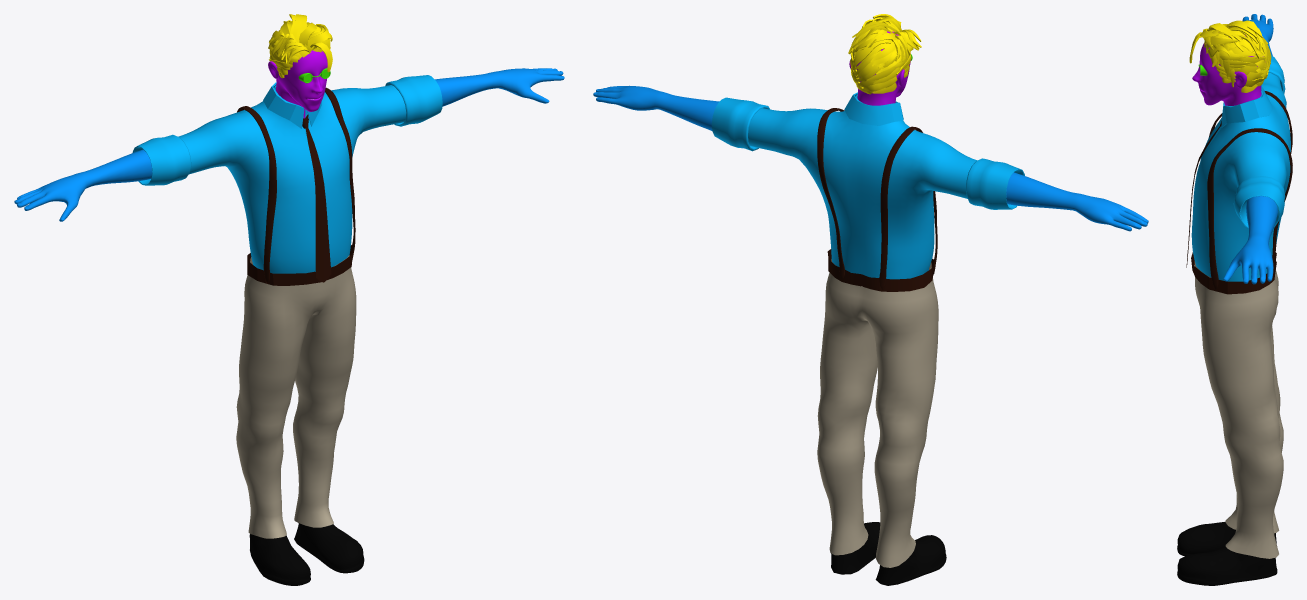
File: nanami_fbx.fbx
3 renders of one model, left to right at view 1: azimuth 30°, elevation 25°; view 2: azimuth 150°, elevation 25°; view 3: azimuth 270°, elevation 25°, orthographic.
Visible parts, largest first — view 1: pants, shirt_base, modified, shoes, collar_r, suspenders, tie, belt, shirt_collar; view 2: pants, shirt_base, modified, collar_r, shoes, suspenders, belt, shirt_collar; view 3: pants, shirt_base, modified, shoes, suspenders, collar_r, shirt_collar, belt, tie, hair_guide9, hair_guide57, hair_guide3.
Boxes of the visible parts, x1,y1,x2,y2 form: pants: (236,255,356,538); shirt_base: (132,85,406,273); modified: (14,50,564,221); shoes: (249,523,364,585); collar_r: (133,75,442,185); suspenders: (237,87,355,283); tie: (302,114,331,282); belt: (247,245,352,285); shirt_collar: (263,82,321,128); pants: (817,259,938,567); shirt_base: (748,94,1024,279); modified: (593,31,1148,270); collar_r: (711,97,1024,209); shoes: (831,522,946,585); suspenders: (817,108,937,289); belt: (827,249,933,291); shirt_collar: (844,92,903,125); pants: (1194,261,1283,558); shirt_base: (1191,72,1290,281); modified: (1192,14,1277,284); shoes: (1177,521,1277,585); suspenders: (1207,91,1292,289); collar_r: (1233,55,1285,227); shirt_collar: (1221,86,1273,127); belt: (1191,252,1276,294); tie: (1186,121,1221,267); hair_guide9: (1208,23,1241,39); hair_guide57: (1229,46,1265,56); hair_guide3: (1204,36,1237,47).
Size of the model in its own units: 193 by 182 by 35.19.
